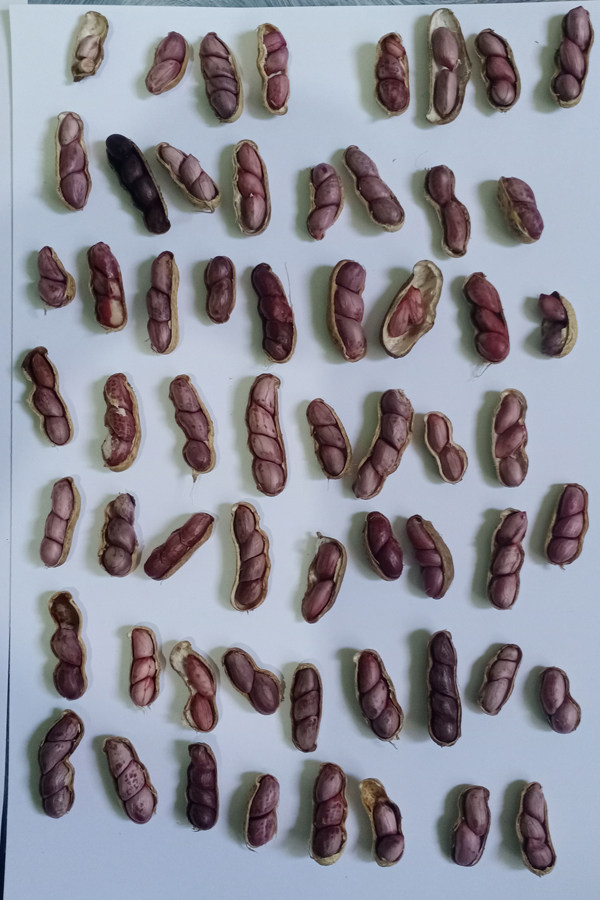Four: (100, 130, 172, 235), (356, 386, 418, 499), (32, 711, 89, 825), (223, 499, 277, 616), (245, 368, 291, 500), (246, 259, 300, 370), (422, 625, 468, 755), (194, 30, 243, 126), (184, 739, 223, 841)
Three: (509, 773, 572, 885), (348, 645, 416, 748), (482, 382, 543, 491), (137, 507, 214, 589), (100, 736, 164, 831), (164, 367, 217, 480), (463, 267, 522, 368), (343, 143, 407, 236), (18, 344, 75, 448), (30, 476, 91, 573), (321, 258, 376, 362), (545, 3, 598, 109), (45, 107, 98, 211), (94, 368, 148, 467), (308, 758, 353, 876), (404, 511, 462, 602), (480, 509, 530, 612), (471, 25, 526, 117), (254, 14, 299, 126), (472, 637, 531, 722), (155, 139, 222, 213), (81, 239, 135, 330), (544, 476, 591, 580), (230, 136, 275, 240), (141, 249, 182, 358), (305, 391, 353, 480), (98, 493, 148, 577), (368, 26, 414, 114), (303, 158, 346, 246), (123, 623, 164, 714), (291, 662, 328, 759)
Two: (384, 250, 443, 368), (350, 772, 417, 872), (419, 162, 482, 261), (43, 586, 95, 704), (427, 8, 476, 130), (167, 635, 225, 732), (217, 645, 291, 718), (441, 780, 496, 872), (417, 404, 473, 485), (235, 772, 290, 854), (300, 526, 345, 626), (494, 167, 550, 246), (537, 662, 593, 737), (359, 504, 410, 586), (532, 287, 584, 364), (28, 240, 82, 312), (145, 27, 194, 102), (66, 5, 108, 84), (198, 253, 239, 321)
